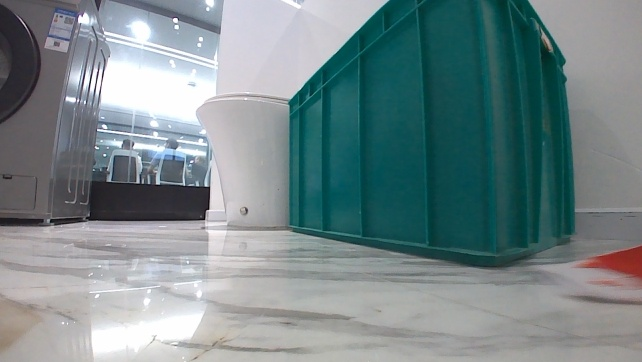toilet: (193, 88, 291, 230)
washing_machine: (0, 0, 115, 226)
